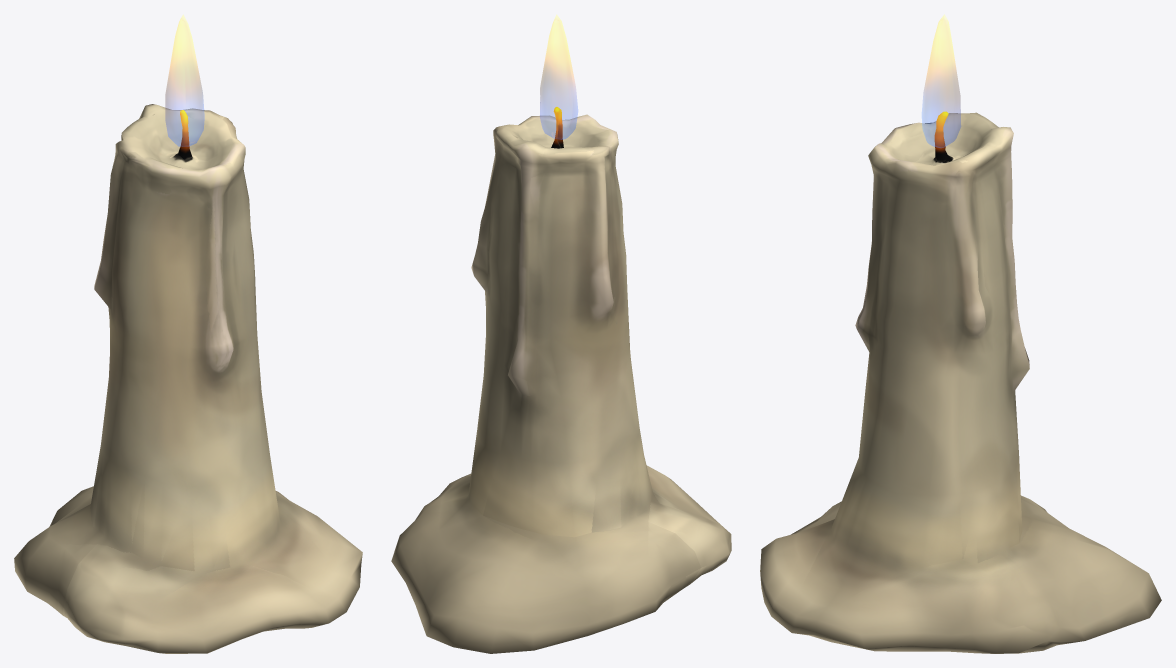
File: candle_7816316002f1.glb
The picture shows the model from 3 angles, left to right: view 1: azimuth 30°, elevation 25°; view 2: azimuth 150°, elevation 25°; view 3: azimuth 270°, elevation 25°; orthographic projection. The views are drawn at different scales.
Parts seen in each view (by area): view 1: VelaRetopo_1, FlamaRetopo_0; view 2: VelaRetopo_1, FlamaRetopo_0; view 3: VelaRetopo_1, FlamaRetopo_0.
Part boxes in pixels (bbox=[...]): VelaRetopo_1: bbox=[14, 104, 362, 653]; FlamaRetopo_0: bbox=[165, 14, 204, 146]; VelaRetopo_1: bbox=[391, 107, 731, 653]; FlamaRetopo_0: bbox=[540, 14, 577, 139]; VelaRetopo_1: bbox=[760, 111, 1161, 653]; FlamaRetopo_0: bbox=[922, 14, 960, 147].
Size of the model in its own units: 2.03 by 4.03 by 2.48.
Materials: 2 (2 with a texture image).
